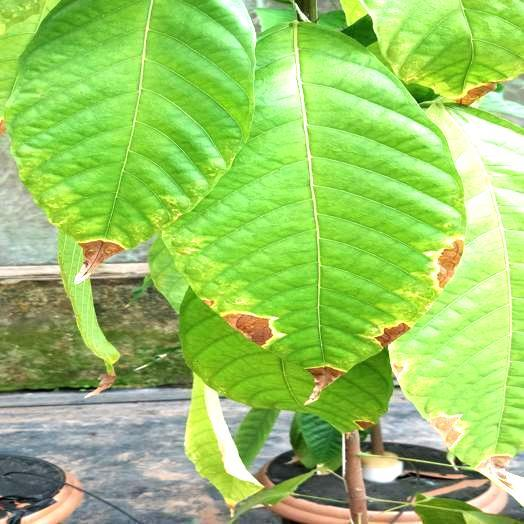Potassium: (168, 22, 461, 401), (8, 0, 254, 283)
